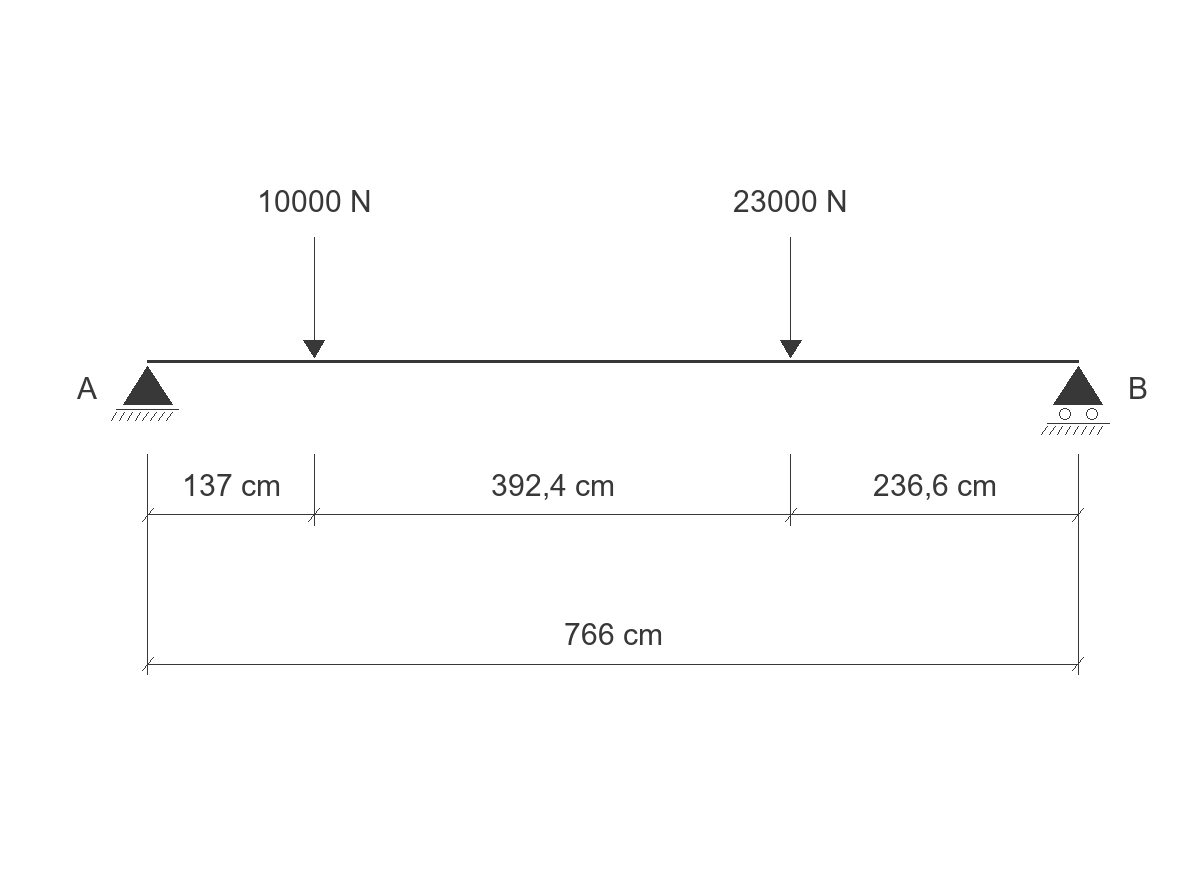pin_support: (111, 366, 179, 421)
point_load: (303, 237, 325, 358), (780, 237, 802, 358)
roller_support: (1041, 366, 1110, 435)
